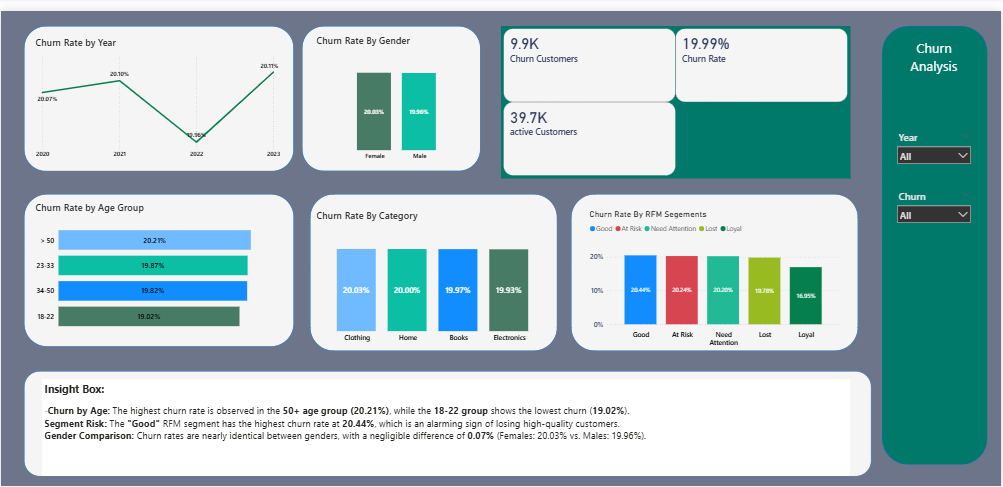

This screenshot's page, from the dashboard's own definition file:
{"tool":"powerbi","page":{"name":"Churn","canvas":[2000,950],"ordinal":4},"visuals":[{"type":"shape","box":[45.6,30.4,539.6,290.7],"z":0},{"type":"shape","box":[617.2,365.6,494.6,314],"z":1000},{"type":"shape","box":[45.2,365.6,539.8,305.4],"z":2000},{"type":"shape","box":[602.2,30.1,357,290.3],"z":3000},{"type":"lineChart","fields":{"Category":["ecommerce_customer_data_large.Year"],"Y":["ecommerce_customer_data_large.Churn Rate"]},"box":[64.6,49.4,499.7,254.6],"z":4000},{"type":"columnChart","title":"Churn Rate By Category","fields":{"Category":["ecommerce_customer_data_large.Product Category"],"Series":["ecommerce_customer_data_large.Product Category"],"Y":["ecommerce_customer_data_large.Churn Rate"]},"box":[625.8,395.7,477.4,275.3],"z":5000},{"type":"barChart","fields":{"Category":["ecommerce_customer_data_large.Age Group"],"Y":["ecommerce_customer_data_large.Churn Rate"]},"box":[64.5,380.6,498.9,277.4],"z":6000},{"type":"columnChart","title":"Churn Rate By Gender","fields":{"Y":["ecommerce_customer_data_large.Churn Rate"],"Category":["ecommerce_customer_data_large.Gender"],"Series":["ecommerce_customer_data_large.Gender"]},"box":[625.8,45.2,333.3,262.4],"z":7000},{"type":"shape","box":[1761.3,30.1,210.8,877.4],"z":8000},{"type":"shape","box":[1139.8,365.6,574.2,314],"z":9000},{"type":"columnChart","title":"Churn Rate By RFM Segements","fields":{"Y":["ecommerce_customer_data_large.Churn Rate"],"Category":["RFM.CustomerSegement"],"Series":["RFM.CustomerSegement"]},"box":[1172,395.7,509.7,283.9],"z":10000},{"type":"slicer","fields":{"Values":["ecommerce_customer_data_large.Year"]},"box":[1782.8,232.3,167.7,88.2],"z":11000},{"type":"slicer","fields":{"Values":["ecommerce_customer_data_large.Churn"]},"box":[1782.8,350.5,167.7,88.2],"z":12000},{"type":"shape","box":[45.6,720.1,1694.8,210.9],"z":13000},{"type":"textbox","box":[1782.8,49.5,167.7,103.2],"z":14000},{"type":"cardVisual","fields":{"Data":["ecommerce_customer_data_large.Churn Customers","ecommerce_customer_data_large.Churn Rate","ecommerce_customer_data_large.active Customers"]},"box":[1000,30.1,698.9,305.4],"z":15000},{"type":"textbox","box":[82,736,1616,194],"z":16000}]}

Visuals, with their boxes in screenshot pixels (x1, y1, x2, y2), scaled from the page's 2000x950 canvas onto the 1003x487 screenshot:
shape: <bbox>23, 16, 293, 165</bbox>
shape: <bbox>310, 187, 558, 348</bbox>
shape: <bbox>23, 187, 293, 344</bbox>
shape: <bbox>302, 15, 481, 164</bbox>
lineChart - ecommerce_customer_data_large.Year x ecommerce_customer_data_large.Churn Rate: <bbox>32, 25, 283, 156</bbox>
"Churn Rate By Category" columnChart: <bbox>314, 203, 553, 344</bbox>
barChart - ecommerce_customer_data_large.Age Group x ecommerce_customer_data_large.Churn Rate: <bbox>32, 195, 283, 337</bbox>
"Churn Rate By Gender" columnChart: <bbox>314, 23, 481, 158</bbox>
shape: <bbox>883, 15, 989, 465</bbox>
shape: <bbox>572, 187, 860, 348</bbox>
"Churn Rate By RFM Segements" columnChart: <bbox>588, 203, 843, 348</bbox>
slicer - ecommerce_customer_data_large.Year: <bbox>894, 119, 978, 164</bbox>
slicer - ecommerce_customer_data_large.Churn: <bbox>894, 180, 978, 225</bbox>
shape: <bbox>23, 369, 873, 477</bbox>
textbox: <bbox>894, 25, 978, 78</bbox>
cardVisual - ecommerce_customer_data_large.Churn Customers x ecommerce_customer_data_large.Churn Rate: <bbox>501, 15, 852, 172</bbox>
textbox: <bbox>41, 377, 852, 477</bbox>
